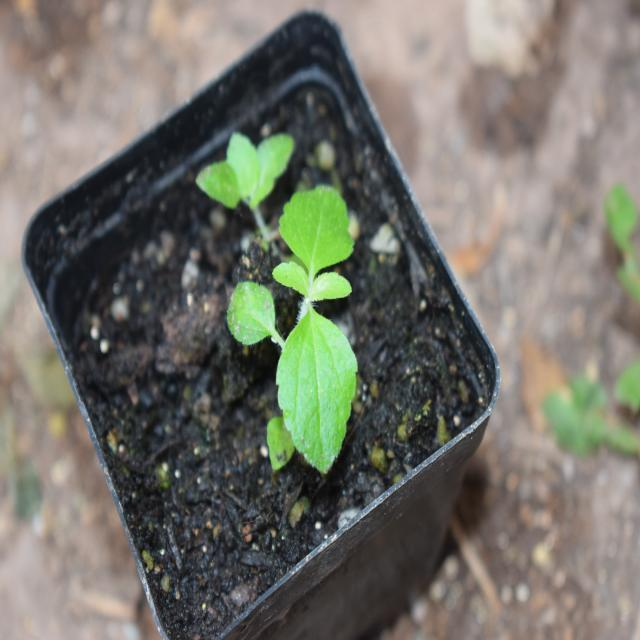billygoat_weed: (229, 193, 362, 454)
